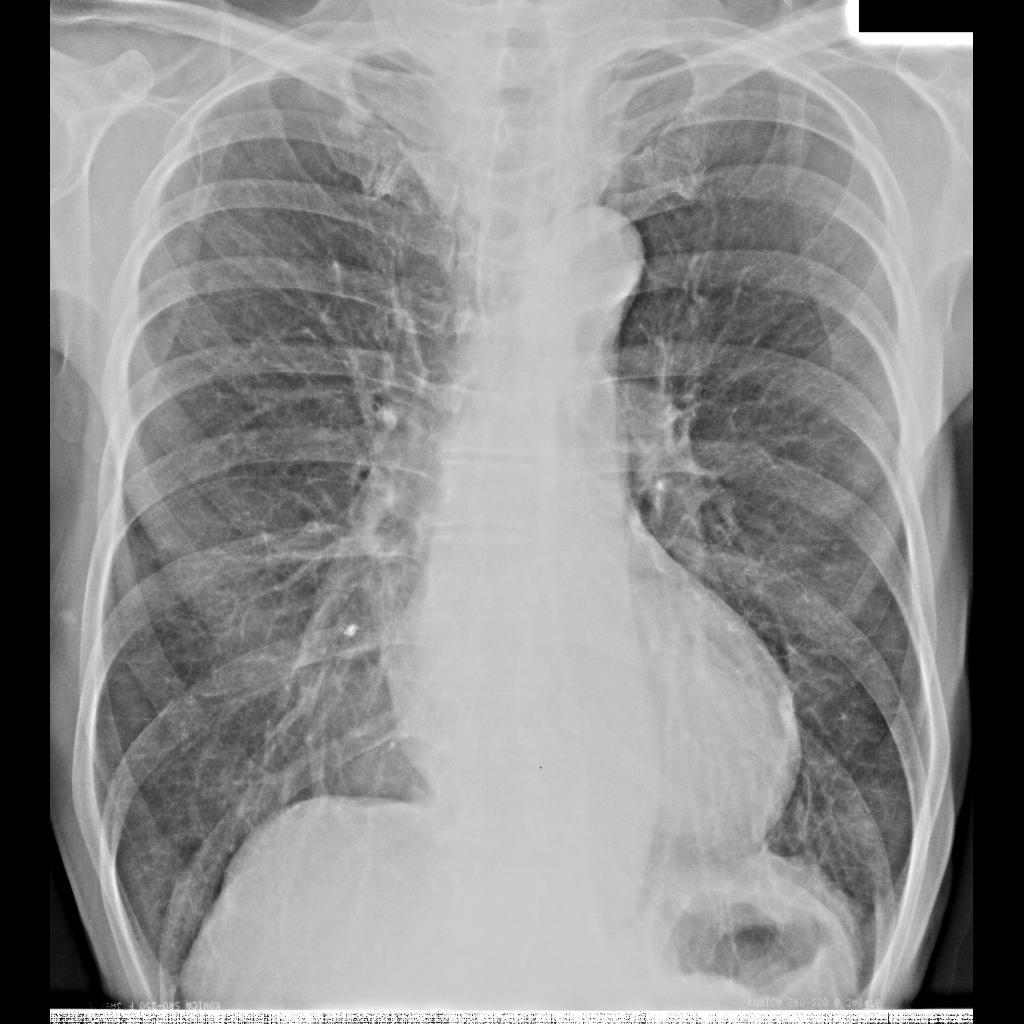Nodule: (334, 102, 372, 140)
